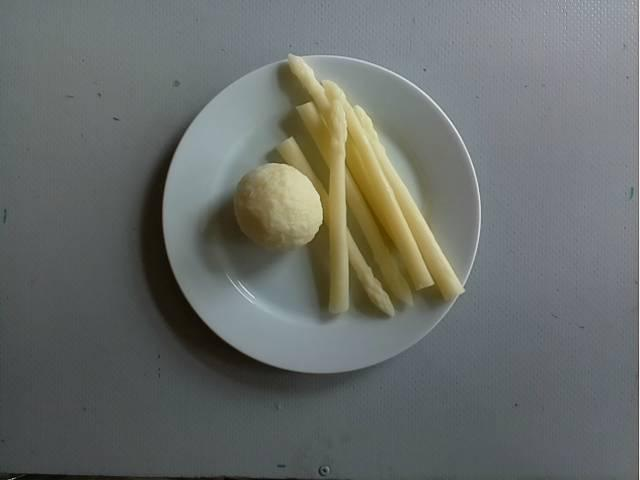Asparagus + dumpling: (236, 53, 466, 317)
